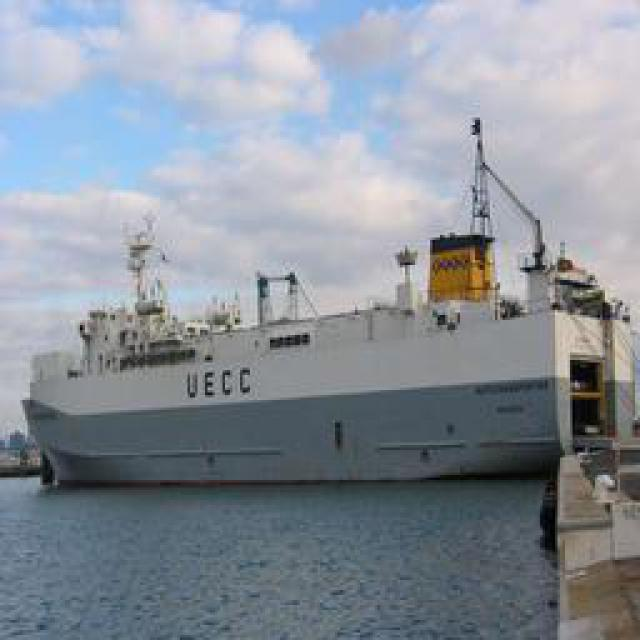Ship: (19, 171, 599, 489)
